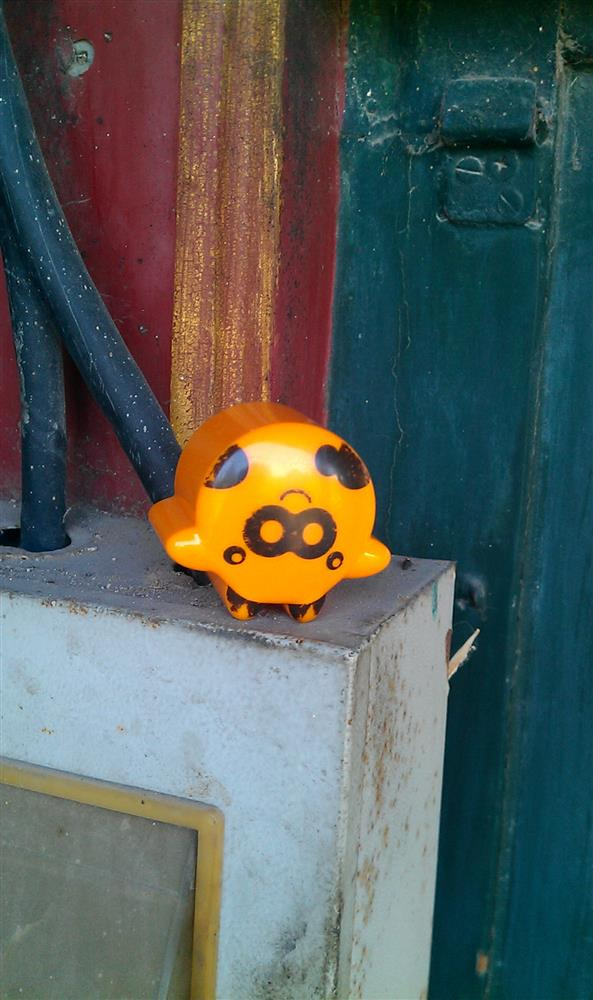toy_cow: (132, 393, 422, 650)
